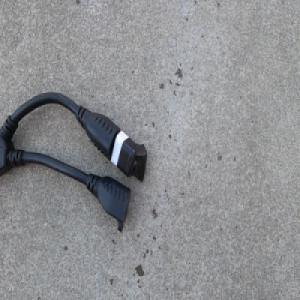Wire: (0, 90, 149, 234)
